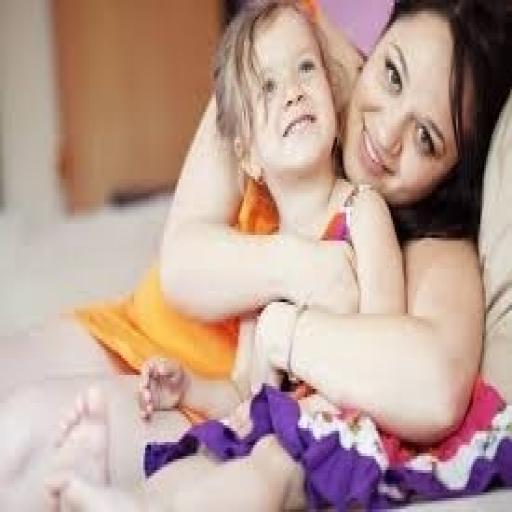hugging: (43, 0, 508, 509)
